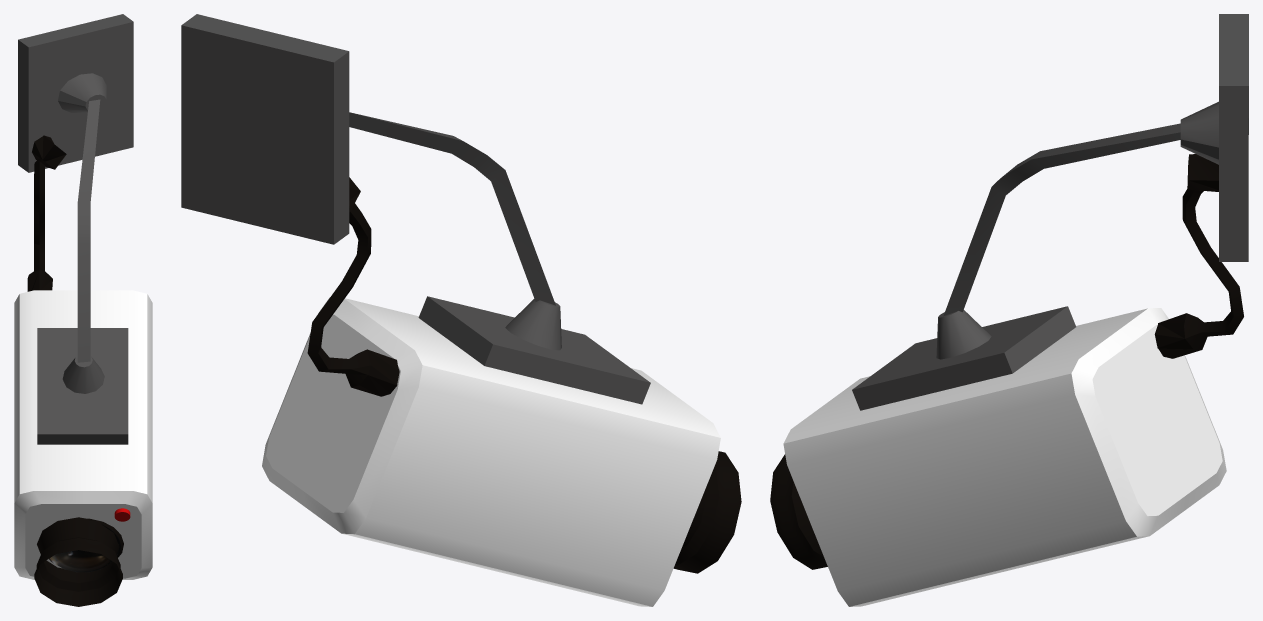
File: Security camera.FBX
The picture shows the model from 3 angles, left to right: view 1: azimuth 30°, elevation 25°; view 2: azimuth 150°, elevation 25°; view 3: azimuth 270°, elevation 25°; orthographic projection. The views are drawn at different scales.
Parts seen in each view (by area): view 1: security camera; view 2: security camera; view 3: security camera.
Boxes of the visible parts, x1,y1,x2,y2 form: security camera: (14, 14, 152, 606); security camera: (181, 14, 741, 606); security camera: (770, 14, 1248, 606).
Bounding box in the file's own units: 19.74 × 34.49 × 24.42.
1 material, 1 textured.
